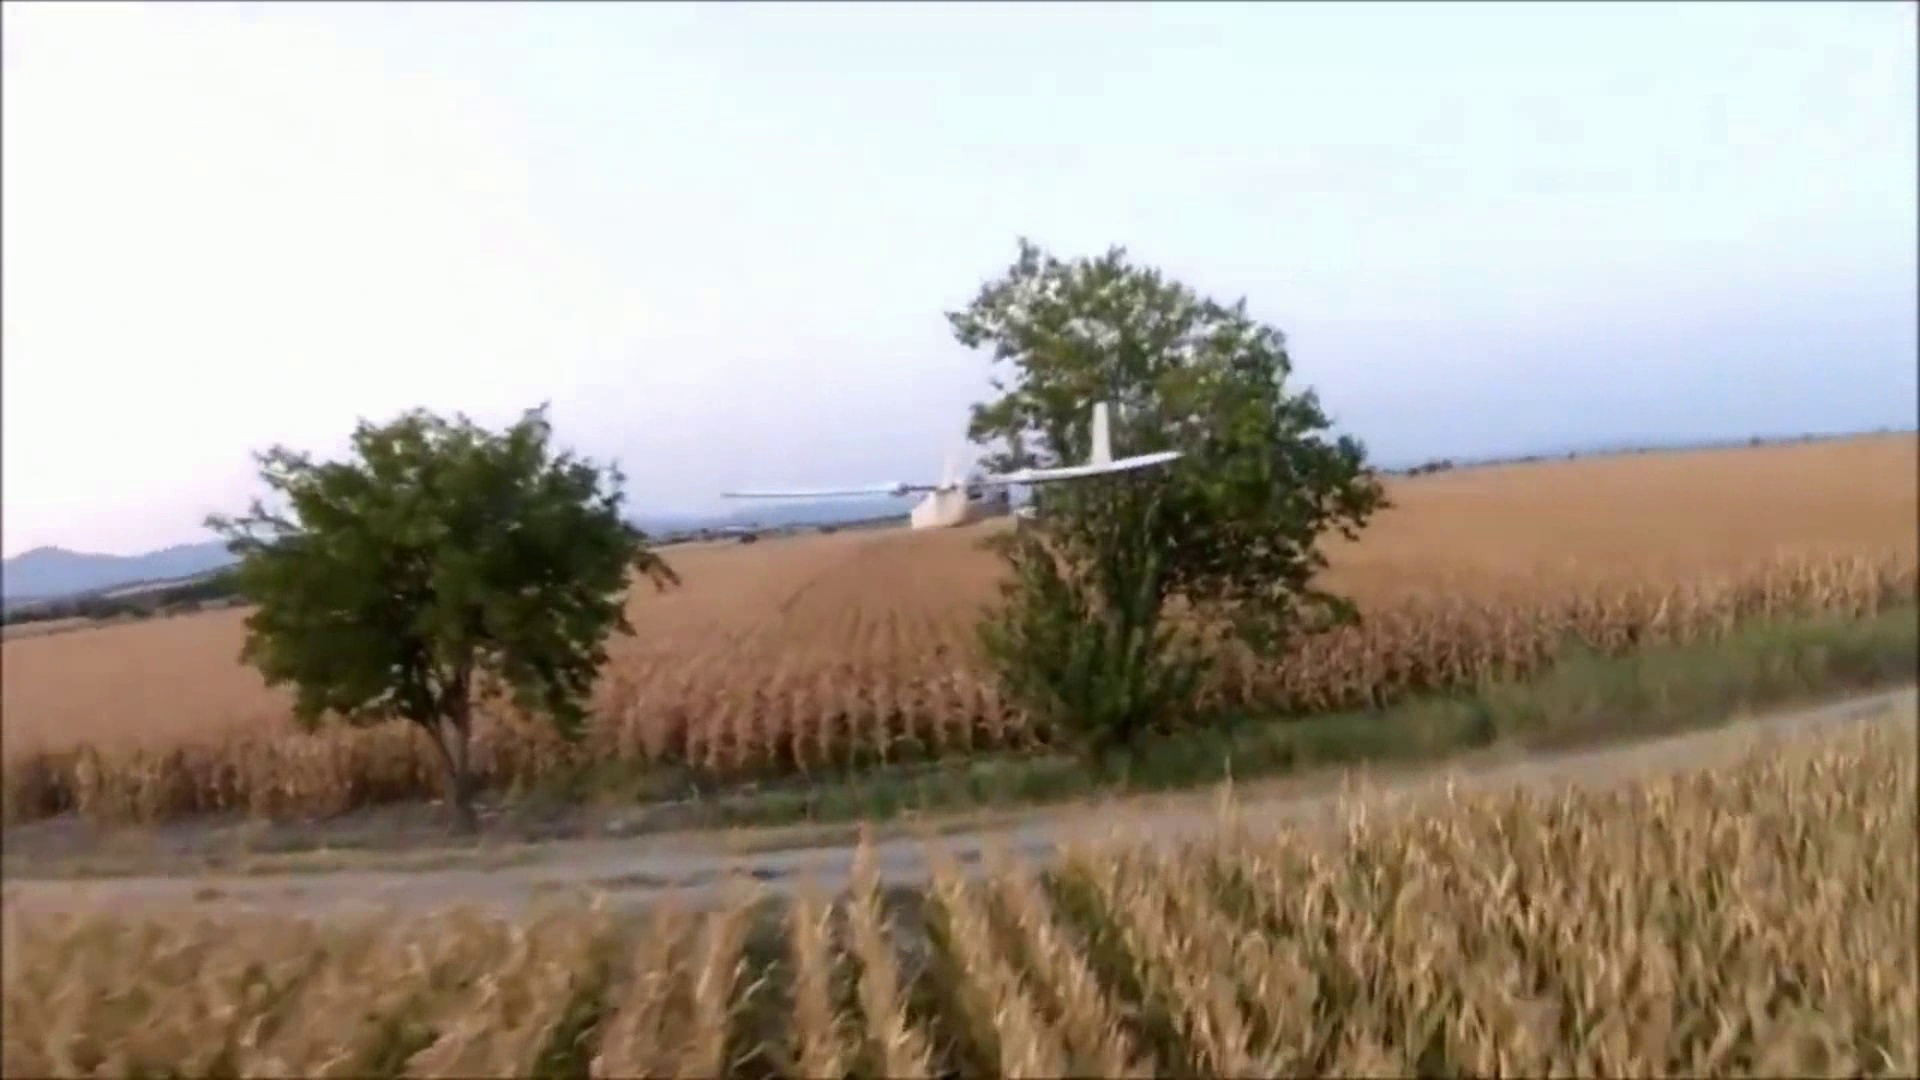airplane: (630, 439, 1182, 556)
